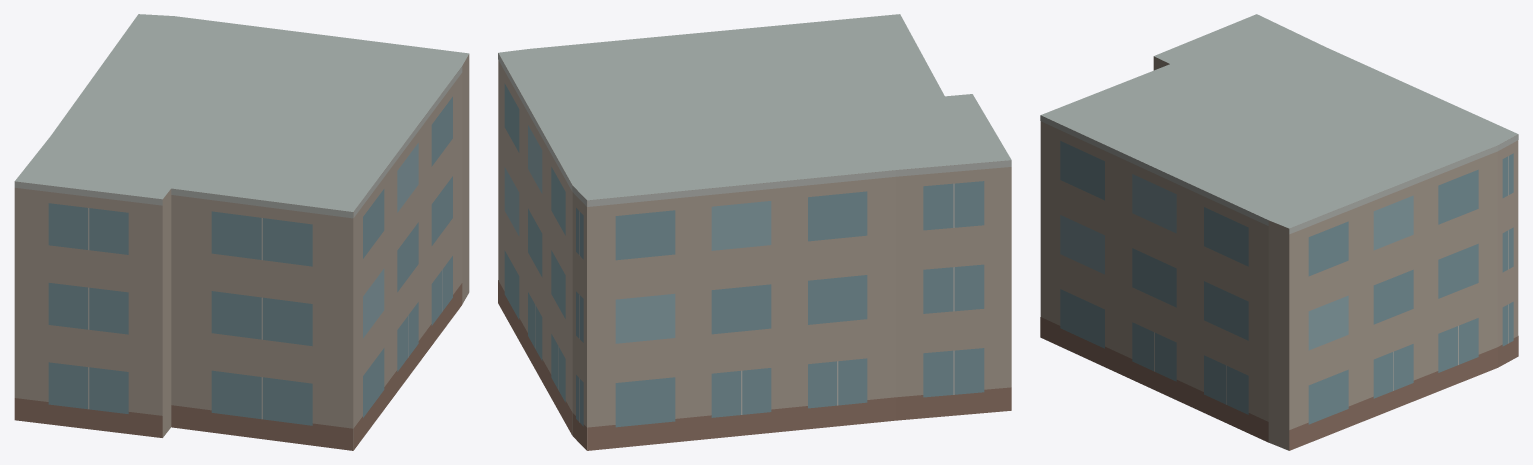
The model's file is survey-upis-32679922.glb.
The picture shows the model from 3 angles, left to right: view 1: azimuth 30°, elevation 25°; view 2: azimuth 150°, elevation 25°; view 3: azimuth 270°, elevation 25°; orthographic projection. The views are drawn at different scales.
Parts seen in each view (by area): view 1: survey-upis-32679922.tmp; view 2: survey-upis-32679922.tmp; view 3: survey-upis-32679922.tmp.
Part boxes in pixels (x1=…): survey-upis-32679922.tmp: x1=14, y1=14, x2=469, y2=450; survey-upis-32679922.tmp: x1=498, y1=14, x2=1011, y2=450; survey-upis-32679922.tmp: x1=1040, y1=14, x2=1518, y2=450.
Size of the model in its own units: 18.94 by 9.15 by 17.83.
